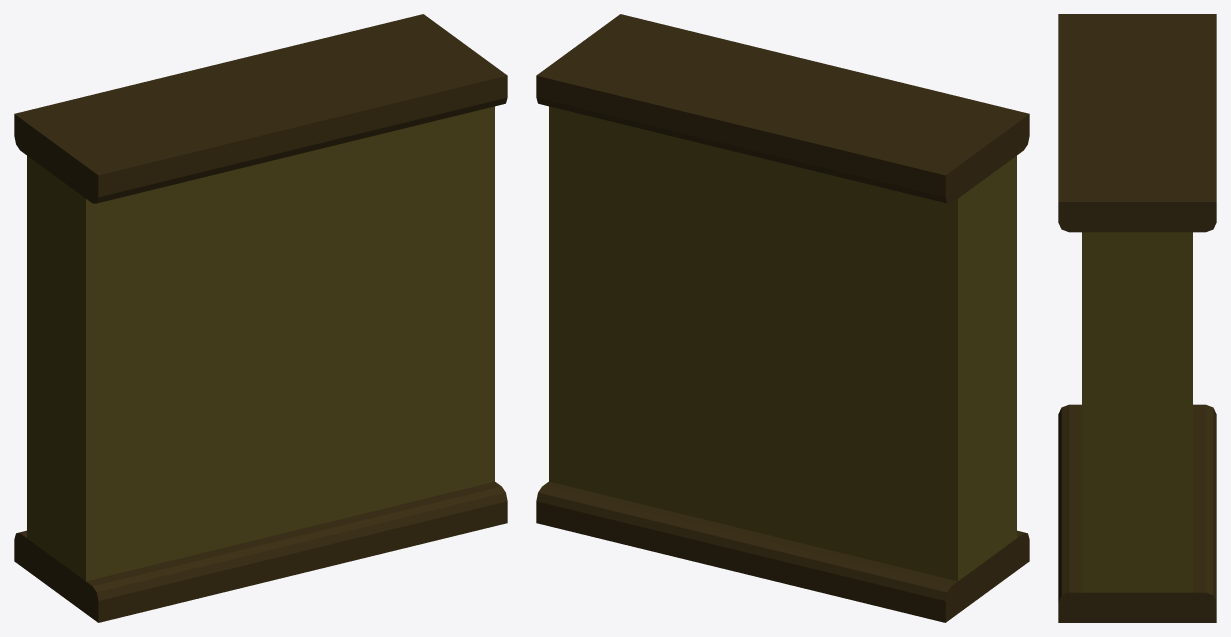
Rendered from WallHalfLow.fbx.
3 views of the same model, side by side, from view 1: azimuth 30°, elevation 25°; view 2: azimuth 150°, elevation 25°; view 3: azimuth 270°, elevation 25° (orthographic). The views are drawn at different scales.
Parts seen in each view (by area): view 1: WallHalfLow; view 2: WallHalfLow; view 3: WallHalfLow.
Part boxes in pixels (x1,y1,x2,y2): WallHalfLow: (14,14,507,622); WallHalfLow: (536,14,1029,622); WallHalfLow: (1058,14,1216,622).
Bounding box in the file's own units: 200 × 209 × 71.24.
